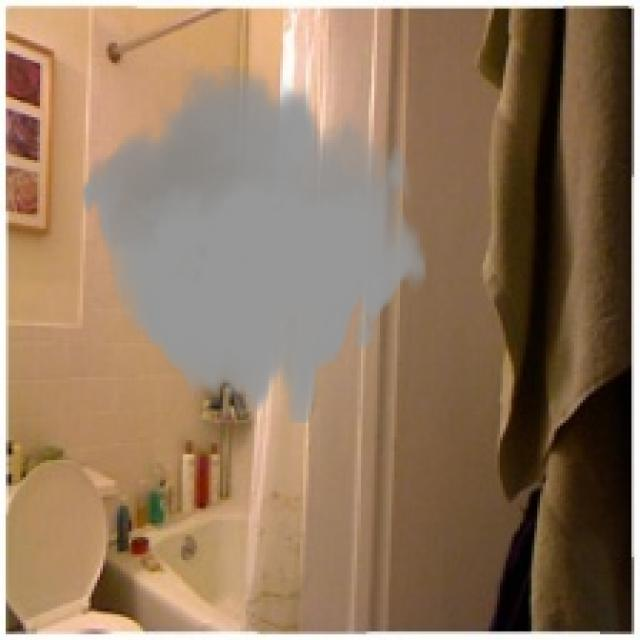smoke: (80, 66, 429, 423)
